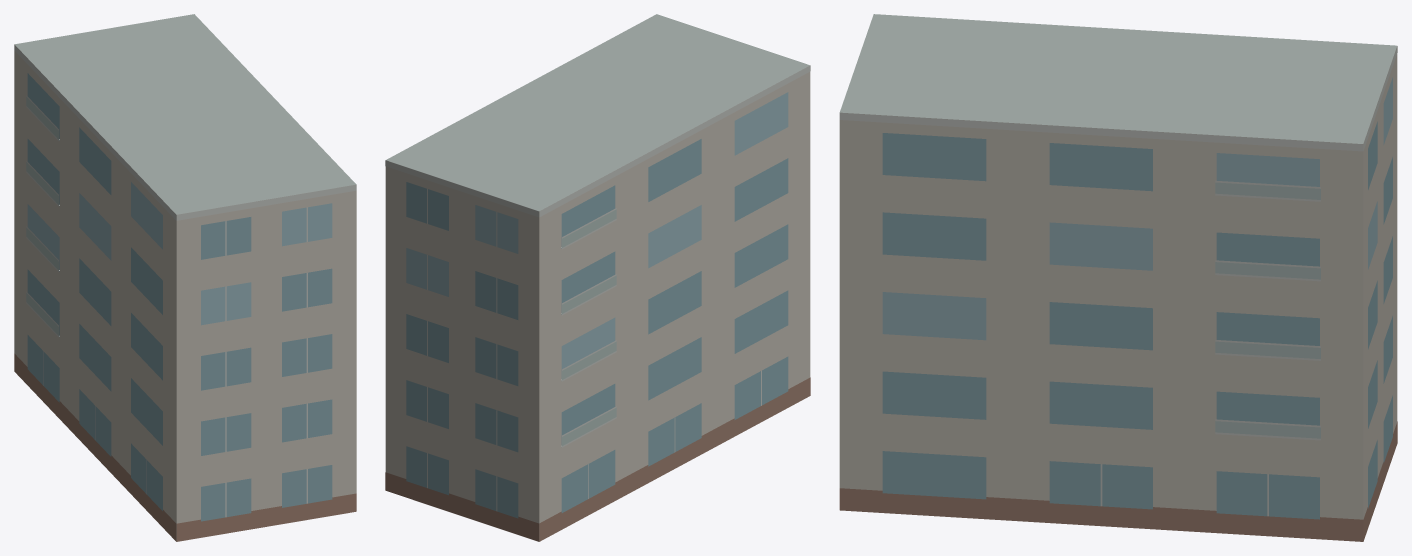
File: survey-upis-32632413.glb
3 views of the same model, side by side, from view 1: azimuth 30°, elevation 25°; view 2: azimuth 150°, elevation 25°; view 3: azimuth 270°, elevation 25° (orthographic). The views are drawn at different scales.
Parts seen in each view (by area): view 1: survey-upis-32632413.tmp; view 2: survey-upis-32632413.tmp; view 3: survey-upis-32632413.tmp.
Boxes of the visible parts, <box> form: survey-upis-32632413.tmp: <box>14,14,356,541</box>; survey-upis-32632413.tmp: <box>385,14,810,541</box>; survey-upis-32632413.tmp: <box>839,14,1397,541</box>.
Bounding box in the file's own units: 9.27 × 13.2 × 16.79.
